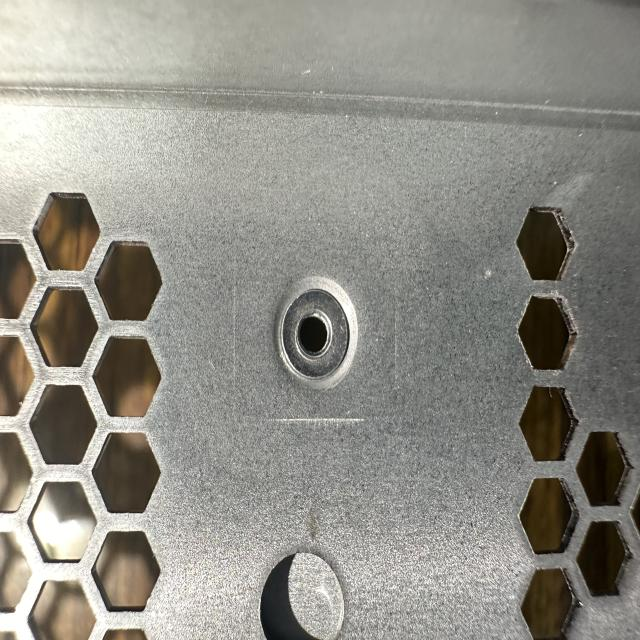Missing screw: (267, 274, 372, 396)
